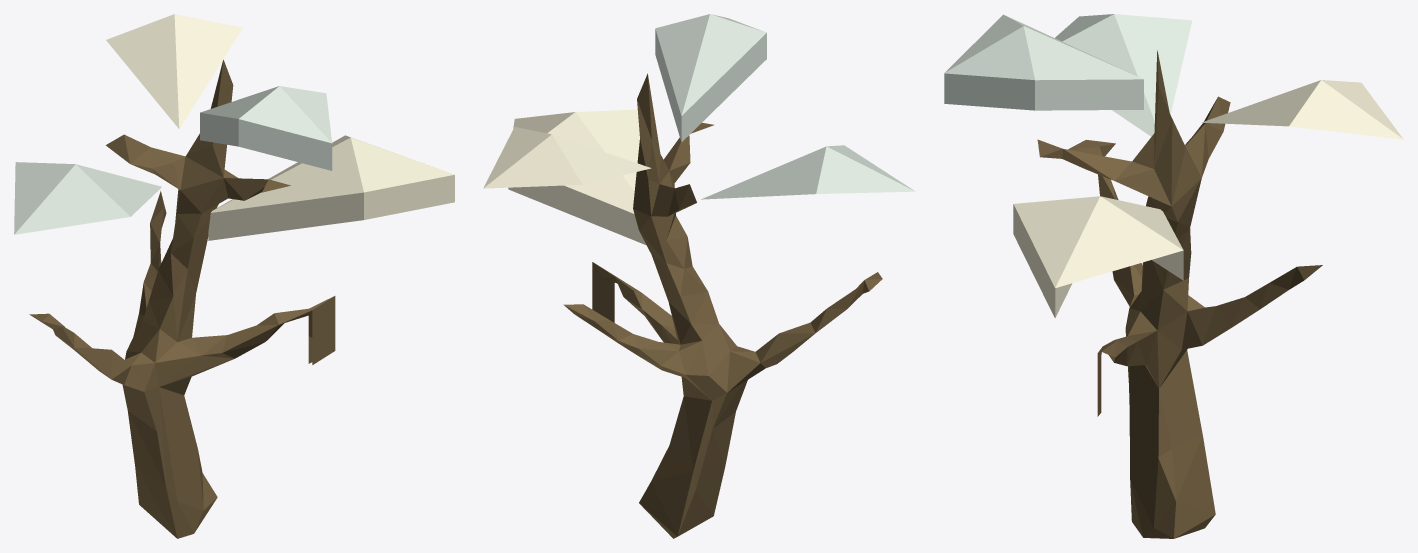
Rendered from SNOWCAP_SHRUB.shadow.glb.
3 renders of one model, left to right at view 1: azimuth 30°, elevation 25°; view 2: azimuth 150°, elevation 25°; view 3: azimuth 270°, elevation 25°, orthographic. The views are drawn at different scales.
Parts seen in each view (by area): view 1: SNOWCAP_SHRUB; view 2: SNOWCAP_SHRUB; view 3: SNOWCAP_SHRUB.
Part boxes in pixels (x1,y1,x2,y2): SNOWCAP_SHRUB: (14,14,454,538); SNOWCAP_SHRUB: (483,14,915,538); SNOWCAP_SHRUB: (944,14,1403,538).
Bounding box in the file's own units: 0.4397 × 0.4692 × 0.3697.
Materials: 1 (1 with a texture image).
